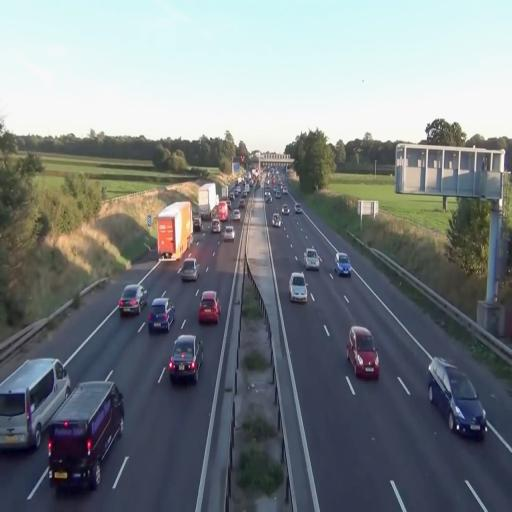vehicle: (44, 377, 125, 491), (48, 382, 124, 489), (0, 356, 70, 451), (0, 359, 70, 449), (428, 357, 488, 439), (428, 357, 487, 440), (447, 373, 488, 439), (156, 200, 193, 264), (158, 202, 193, 260), (346, 326, 380, 380), (168, 334, 203, 386), (347, 326, 379, 379), (169, 335, 203, 383), (147, 298, 175, 333), (148, 297, 174, 334), (119, 285, 147, 315), (118, 284, 142, 318), (198, 290, 221, 325), (198, 182, 218, 220), (199, 291, 220, 323), (198, 183, 216, 219), (289, 272, 308, 304), (179, 257, 200, 284), (289, 273, 307, 302), (180, 258, 199, 281), (335, 253, 352, 277), (335, 253, 351, 277), (304, 248, 320, 270), (304, 249, 319, 270), (218, 202, 228, 221), (224, 227, 235, 241), (211, 219, 221, 233), (193, 217, 202, 231), (272, 214, 281, 227), (294, 203, 302, 214), (233, 210, 240, 221), (221, 186, 228, 197), (282, 205, 289, 215), (275, 190, 282, 199), (239, 200, 245, 209), (235, 187, 241, 196), (266, 194, 272, 203), (226, 200, 231, 210), (228, 192, 234, 200), (273, 185, 279, 193), (282, 187, 288, 194), (245, 184, 249, 194), (237, 176, 242, 184), (242, 190, 247, 197), (265, 187, 269, 194), (280, 183, 283, 191)
